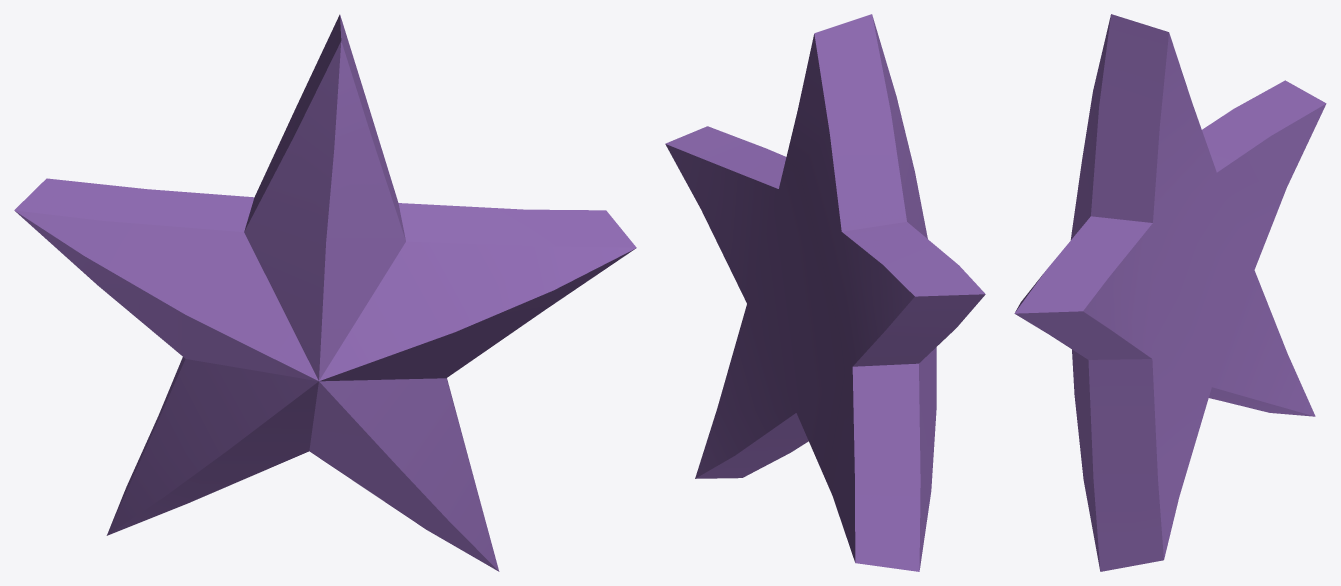
Rendered from TL2_Frame_Star.001 3.glb.
The picture shows the model from 3 angles, left to right: view 1: azimuth 30°, elevation 25°; view 2: azimuth 150°, elevation 25°; view 3: azimuth 270°, elevation 25°; orthographic projection. The views are drawn at different scales.
Visible parts, largest first — view 1: TL2_Frame_Star.001; view 2: TL2_Frame_Star.001; view 3: TL2_Frame_Star.001.
Boxes of the visible parts, x1,y1,x2,y2 form: TL2_Frame_Star.001: [14, 14, 636, 571]; TL2_Frame_Star.001: [665, 14, 985, 571]; TL2_Frame_Star.001: [1014, 14, 1326, 571].
Bounding box in the file's own units: 0.4546 × 0.514 × 0.2949.
